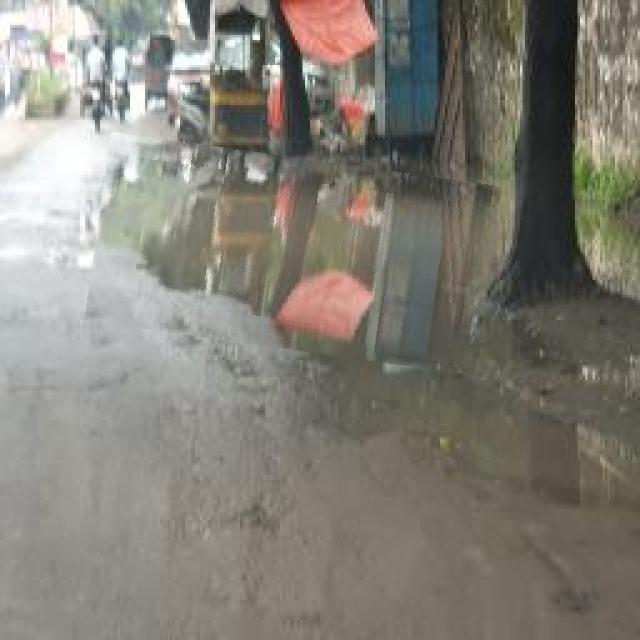puddle: (92, 146, 497, 363)
